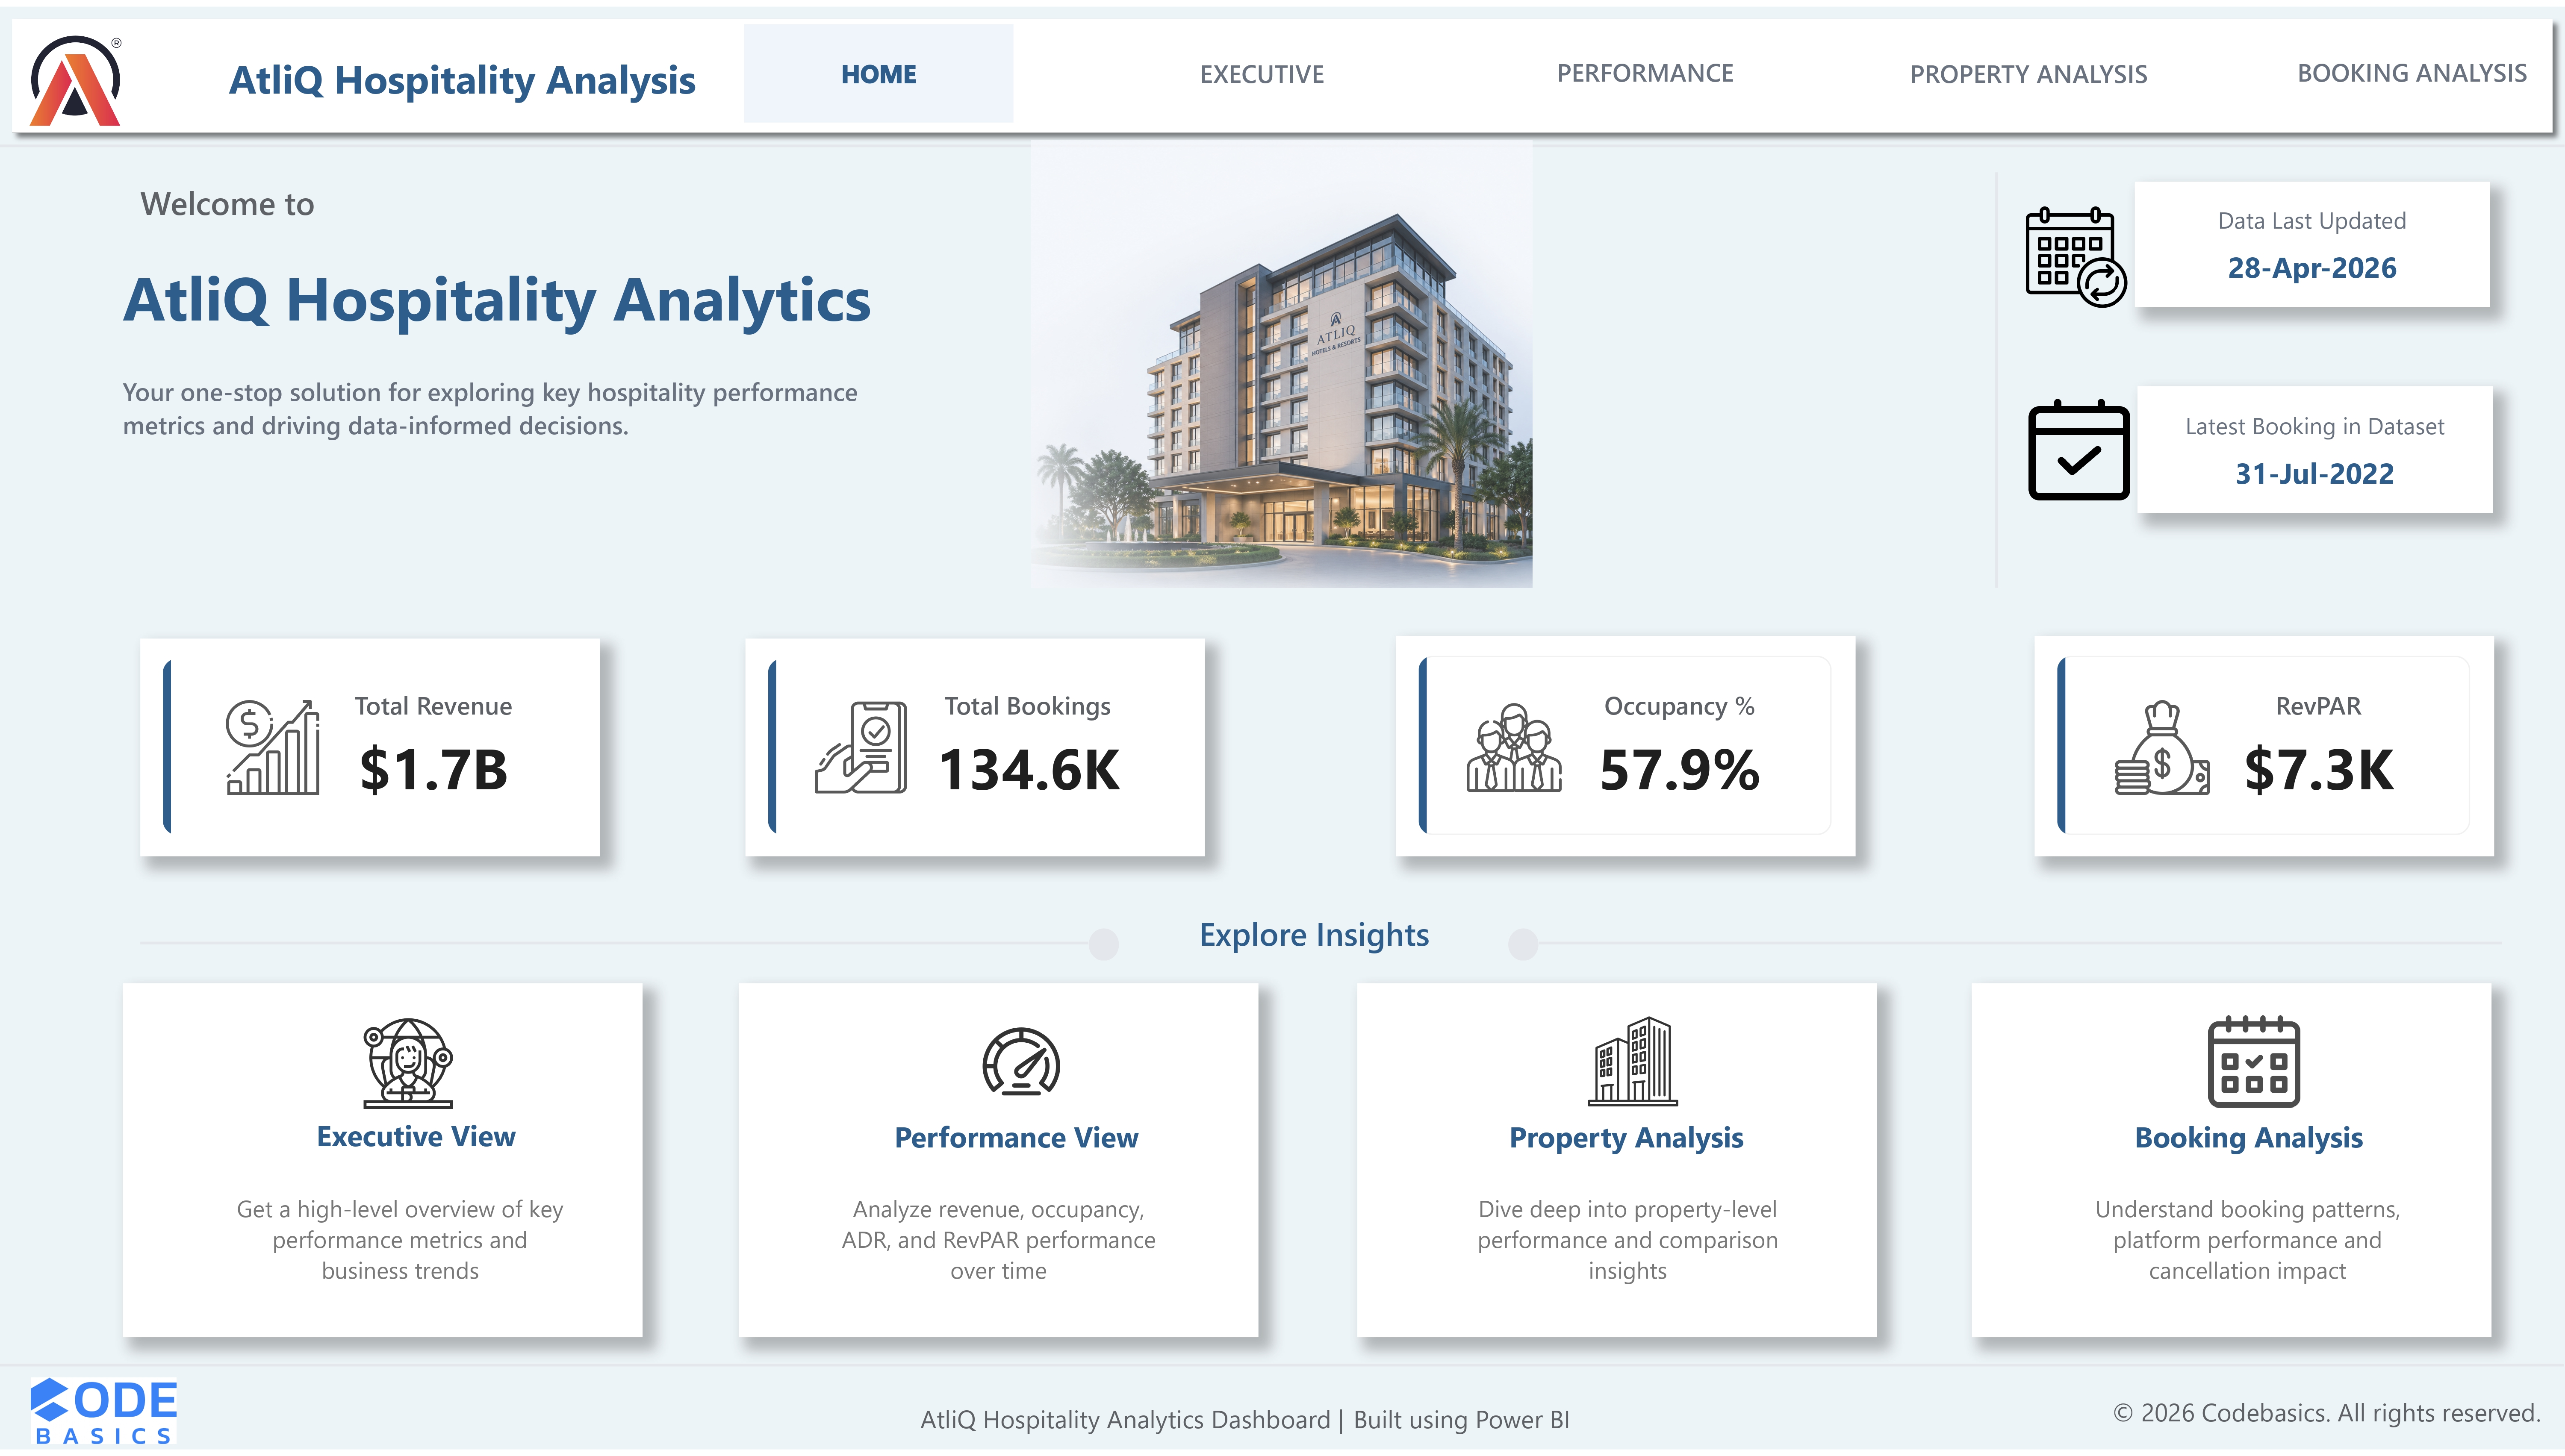

Layout of this report page (visuals, bound fields, positions):
{"tool":"powerbi","page":{"name":"Home","canvas":[1920,1080],"ordinal":0},"visuals":[{"type":"shape","title":"Top_Nav Bar","box":[0,0,1919.7,103.3],"z":0},{"type":"shape","title":"Divider Line 5","box":[0,1008.1,1919.4,17.7],"z":1000},{"type":"shape","title":"Divider Line 4","box":[1151.6,683.9,721,33.9],"z":2000},{"type":"shape","title":"Divider Line 3","box":[104.8,683.9,709.7,33.9],"z":3000},{"type":"shape","title":"Divider Line 2","box":[1433.9,124.2,121,311.3],"z":4000},{"type":"shape","title":"Bottom Line 3","box":[1580.6,1027.4,325.8,48.4],"z":4125},{"type":"shape","title":"Bottom Line 2","box":[1012.9,1032.3,232.3,48.4],"z":4250},{"type":"shape","title":"Bottom Line 1","box":[688.7,1032.3,333.9,48.4],"z":4500},{"type":"shape","title":"Divider Line 1","box":[0,86.9,1919.7,34.4],"z":5000},{"type":"shape","box":[814.5,690.3,22.6,24.2],"z":6000},{"type":"image","title":"CB Logo","box":[21,1025.8,112.9,50],"z":7000},{"type":"shape","box":[1129,690.3,22.6,24.2],"z":8000},{"type":"image","title":"Atliq Logo","box":[21.3,13.1,72.1,83.6],"z":9000},{"type":"shape","title":"Title text","box":[160.7,13.1,370.5,78.7],"z":10000},{"type":"shape","title":"Welcome To","box":[104.7,122.1,240.7,48.8],"z":11000},{"type":"shape","title":"Subtitle","box":[92.4,249.4,565.1,101.2],"z":12000},{"type":"shape","title":"Main Title","box":[92.4,146.5,617.4,137.8],"z":13000},{"type":"shape","title":"Explore Insights","box":[837.1,666.1,293.5,53.2],"z":14000},{"type":"cardVisual","title":"Data Last Updated","fields":{"Data":["Min(Report Refresh Date.Date Last Refreshed)"]},"box":[1598.4,130.6,266.1,93.5],"z":15000},{"type":"cardVisual","title":"Latest Booking in Dataset","fields":{"Data":["Key Measures.Last Booking Date"]},"box":[1600,283.9,266.1,95.2],"z":16000},{"type":"image","title":"Calendar Image","box":[1512.9,283.9,87.1,95.2],"z":17000},{"type":"image","title":"Hotel Image","box":[0,100,1919.4,335.5],"z":18000},{"type":"image","title":"Refresh Image","box":[1511.3,146.8,87.1,80.6],"z":19000},{"type":"actionButton","title":"HOME Button","box":[557.4,13.1,201.6,73.8],"z":20000},{"type":"actionButton","title":"EXECUTIVE Button","box":[844.3,13.1,201.6,73.8],"z":21000},{"type":"actionButton","title":"PERFORMANCE Button","box":[1131.1,9.8,201.6,77],"z":22000},{"type":"actionButton","title":"PROPERTY Button","box":[1418,13.1,201.6,73.8],"z":23000},{"type":"actionButton","title":"BOOKING Button","box":[1704.9,11.5,201.6,75.4],"z":24000},{"type":"cardVisual","title":"KPI: Revenue","fields":{"Data":["Key Measures.Revenue Display"]},"box":[104.8,472.6,343.5,162.9],"z":26000},{"type":"cardVisual","title":"KPI: Total Bookings","fields":{"Data":["Key Measures.Total Bookings"]},"box":[558.1,472.6,343.5,162.9],"z":27000},{"type":"cardVisual","title":"KPI: Occupancy %","fields":{"Data":["Key Measures.Occupancy %"]},"box":[1045.2,471,343.5,164.5],"z":28000},{"type":"cardVisual","title":"KPI: RevPAR","fields":{"Data":["Key Measures.RevPAR (Revenue Per Available Room)"]},"box":[1522.6,471,343.5,164.5],"z":29000},{"type":"image","title":"Rev Icon","box":[162.9,519.4,83.9,71],"z":30000},{"type":"image","title":"RevPar Icon","box":[1577.4,519.4,82.3,71],"z":31000},{"type":"image","title":"Occ Icon","box":[1091.9,519.4,82.3,71],"z":32000},{"type":"image","title":"Book Icon","box":[603.2,519.4,82.3,71],"z":33000},{"type":"actionButton","title":"Button: Executive","box":[91.9,730.6,388.7,264.5],"z":34000},{"type":"actionButton","title":"Button: Perfromance","box":[553.2,730.6,388.7,264.5],"z":35000},{"type":"actionButton","title":"Button: Property","box":[1016.1,730.6,388.7,264.5],"z":36000},{"type":"actionButton","title":"Button: Booking","box":[1475.8,730.6,388.7,264.5],"z":37000},{"type":"textbox","title":"Text box 1","box":[222.2,825.4,179.4,52.4],"z":38000},{"type":"shape","title":"Shape 1","box":[172.6,862.9,253.2,116.1],"z":39000},{"type":"textbox","title":"Text box 2","box":[653.2,825.8,216.1,51.6],"z":40000},{"type":"shape","title":"Shape 2","box":[621,862.9,253.2,116.1],"z":41000},{"type":"textbox","title":"Text box 2","box":[1111.3,825.8,212.9,51.6],"z":42000},{"type":"shape","title":"Shape 2","box":[1091.9,862.9,253.2,116.1],"z":43000},{"type":"textbox","title":"Text box 2","box":[1577.4,825.8,212.9,51.6],"z":44000},{"type":"shape","title":"Shape 2","box":[1556.5,862.9,253.2,116.1],"z":45000},{"type":"image","title":"Exe Icon","box":[265.1,755.6,81,69.8],"z":46000},{"type":"image","title":"Performance Icon","box":[724.2,754.8,80,69],"z":47000},{"type":"image","title":"Property Icon","box":[1182.3,754.8,80,69],"z":48000},{"type":"image","title":"Booking Icon","box":[1646.8,754.8,80,69],"z":49000}]}

Visuals, with their boxes in screenshot pixels (x1, y1, x2, y2), scaled from the page's 1920x1080 canvas onto the 2565x1456 screenshot:
"Top_Nav Bar" shape: [0,0,2565,139]
"Divider Line 5" shape: [0,1359,2564,1383]
"Divider Line 4" shape: [1539,922,2502,968]
"Divider Line 3" shape: [140,922,1088,968]
"Divider Line 2" shape: [1916,168,2077,587]
"Bottom Line 3" shape: [2111,1385,2547,1450]
"Bottom Line 2" shape: [1353,1392,1663,1456]
"Bottom Line 1" shape: [920,1392,1366,1456]
"Divider Line 1" shape: [0,117,2565,164]
shape: [1088,931,1118,963]
"CB Logo" image: [28,1383,179,1450]
shape: [1508,931,1539,963]
"Atliq Logo" image: [29,18,125,130]
"Title text" shape: [215,18,710,124]
"Welcome To" shape: [140,165,461,230]
"Subtitle" shape: [124,336,879,473]
"Main Title" shape: [124,197,948,383]
"Explore Insights" shape: [1118,898,1510,970]
"Data Last Updated" cardVisual: [2135,176,2491,302]
"Latest Booking in Dataset" cardVisual: [2137,383,2493,511]
"Calendar Image" image: [2021,383,2137,511]
"Hotel Image" image: [0,135,2564,587]
"Refresh Image" image: [2019,198,2135,306]
"HOME Button" actionButton: [745,18,1014,117]
"EXECUTIVE Button" actionButton: [1128,18,1397,117]
"PERFORMANCE Button" actionButton: [1511,13,1781,117]
"PROPERTY Button" actionButton: [1894,18,2164,117]
"BOOKING Button" actionButton: [2278,15,2547,117]
"KPI: Revenue" cardVisual: [140,637,599,857]
"KPI: Total Bookings" cardVisual: [746,637,1205,857]
"KPI: Occupancy %" cardVisual: [1396,635,1855,857]
"KPI: RevPAR" cardVisual: [2034,635,2493,857]
"Rev Icon" image: [218,700,330,796]
"RevPar Icon" image: [2107,700,2217,796]
"Occ Icon" image: [1459,700,1568,796]
"Book Icon" image: [806,700,916,796]
"Button: Executive" actionButton: [123,985,642,1341]
"Button: Perfromance" actionButton: [739,985,1258,1341]
"Button: Property" actionButton: [1357,985,1877,1341]
"Button: Booking" actionButton: [1972,985,2491,1341]
"Text box 1" textbox: [297,1113,537,1183]
"Shape 1" shape: [230,1163,569,1320]
"Text box 2" textbox: [873,1113,1162,1183]
"Shape 2" shape: [830,1163,1168,1320]
"Text box 2" textbox: [1485,1113,1769,1183]
"Shape 2" shape: [1459,1163,1797,1320]
"Text box 2" textbox: [2107,1113,2392,1183]
"Shape 2" shape: [2079,1163,2418,1320]
"Exe Icon" image: [354,1019,463,1113]
"Performance Icon" image: [967,1018,1074,1111]
"Property Icon" image: [1580,1018,1686,1111]
"Booking Icon" image: [2200,1018,2307,1111]
